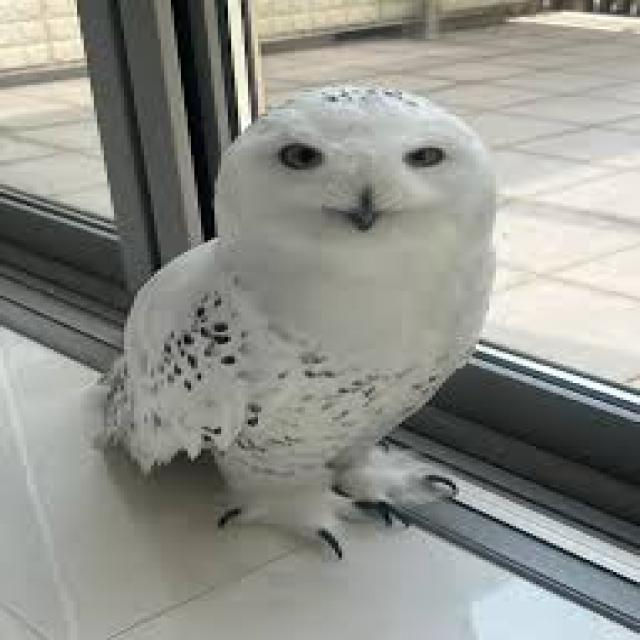snowy owl: (209, 77, 526, 542)
